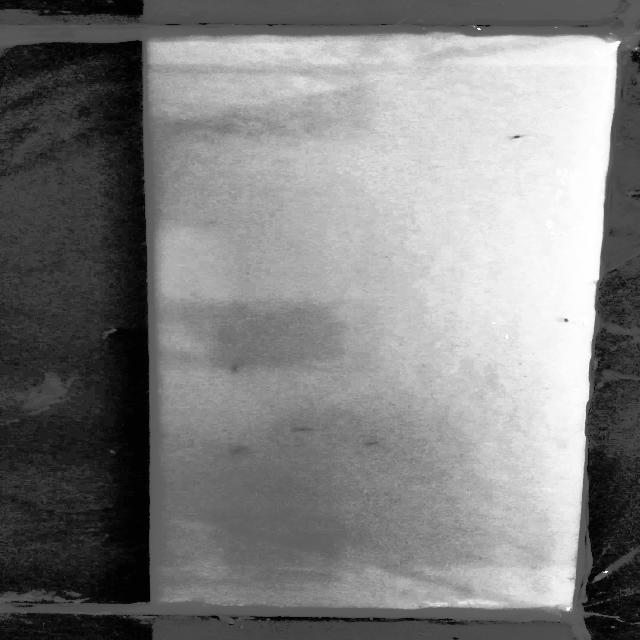shrimp: (494, 125, 557, 148), (543, 309, 579, 334), (294, 420, 324, 440), (228, 446, 272, 456), (223, 357, 244, 374), (360, 439, 380, 448)
